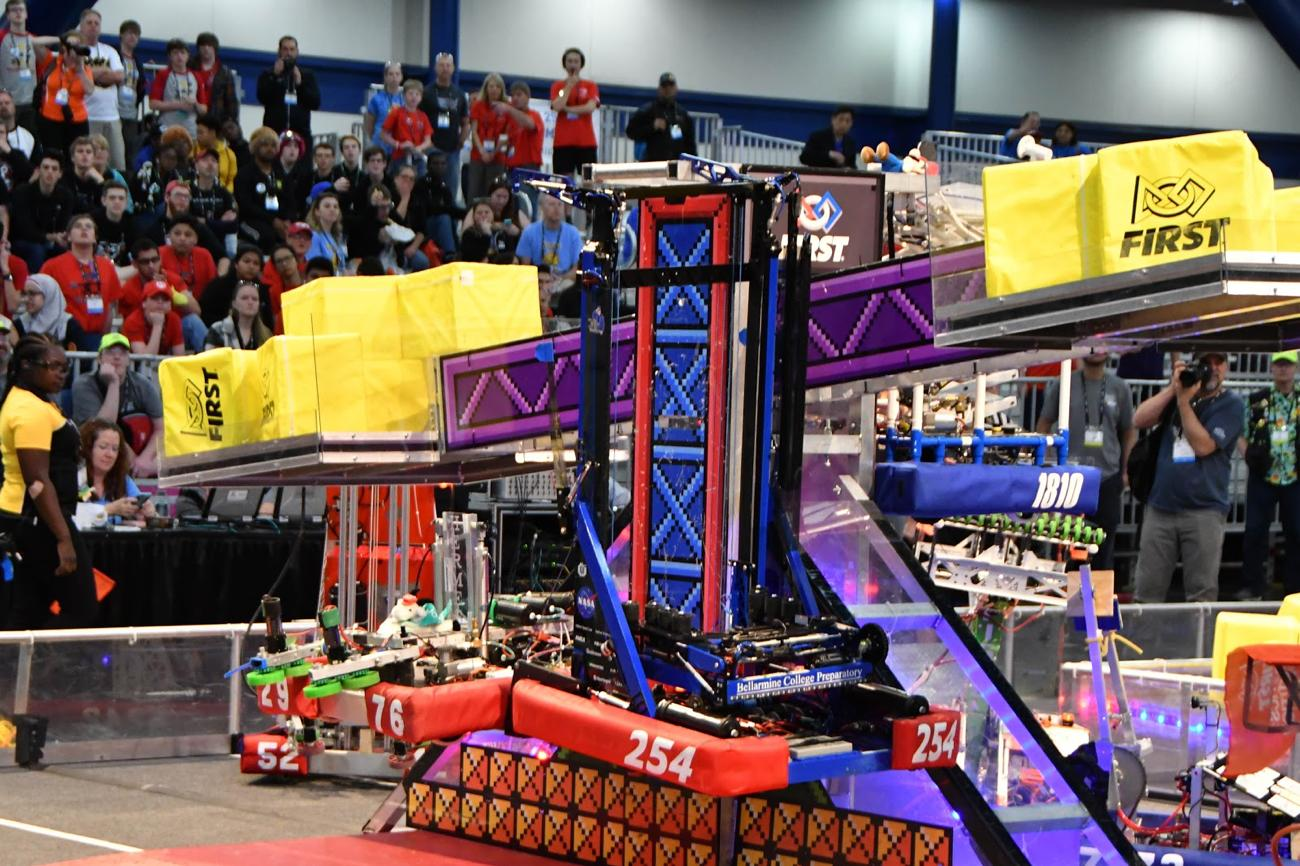robot: (504, 161, 970, 800), (945, 517, 1300, 866), (217, 419, 558, 745), (835, 251, 1128, 521), (240, 663, 461, 786)
